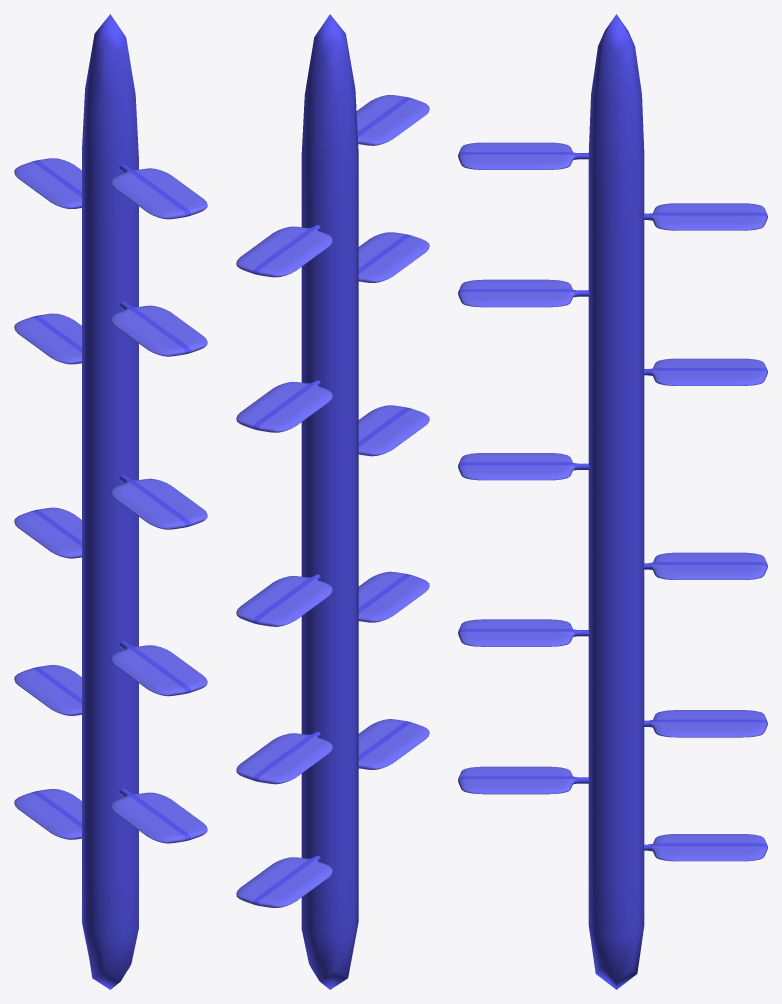
The model's file is algae.fbx.
3 renders of one model, left to right at view 1: azimuth 30°, elevation 25°; view 2: azimuth 150°, elevation 25°; view 3: azimuth 270°, elevation 25°, orthographic.
Visible parts, largest first — view 1: algae; view 2: algae; view 3: algae.
Boxes of the visible parts, left/top/right/bottom form: algae: left=14, top=14, right=207, bottom=989; algae: left=236, top=14, right=429, bottom=989; algae: left=458, top=14, right=767, bottom=989.
Size of the model in its own units: 2.09 by 34.8 by 10.01.
